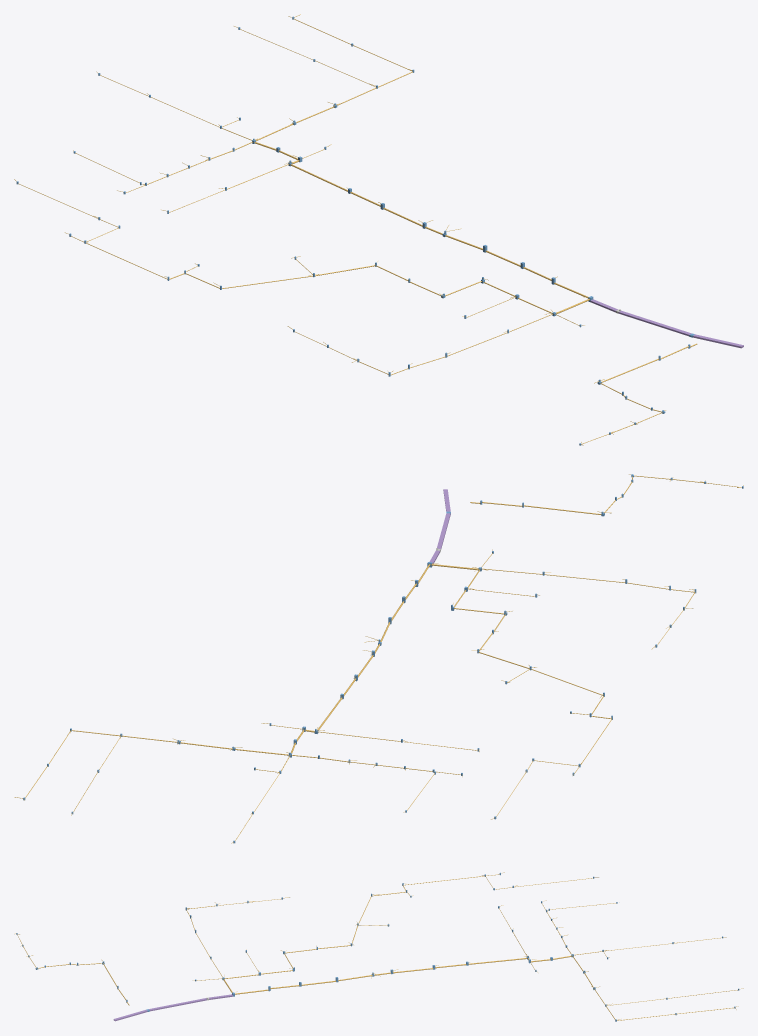
File: 500125-CSSP001-780-XX-MD-ST-000206.glb
The picture shows the model from 3 angles, top to bottom: view 1: azimuth 30°, elevation 25°; view 2: azimuth 150°, elevation 25°; view 3: azimuth 270°, elevation 25°; orthographic projection. The views are drawn at different scales.
Visible parts, largest first — view 1: no part large enough to name; view 2: no part large enough to name; view 3: 500125-CSSP001-780-XX-MD-ST-000206#BOX002.
Boxes of the visible parts, <box> form: 500125-CSSP001-780-XX-MD-ST-000206#BOX002: <box>113,998,206,1021</box>.
Size of the model in its own units: 509 by 15.78 by 1057.
